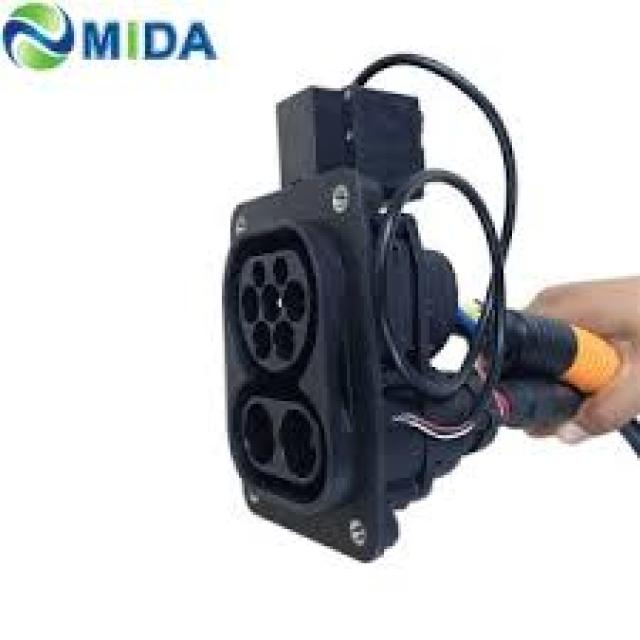inlet: (239, 250, 308, 372)
inlet-above-left: (253, 261, 266, 288)
inlet-above-right: (272, 258, 287, 285)
inlet-below-left: (253, 321, 270, 358)
inlet-below-right: (274, 322, 294, 359)
inlet-circle: (262, 283, 280, 321)
inlet-circle-left: (241, 286, 259, 324)
inlet-circle-right: (287, 281, 305, 319)
inlet-minus: (280, 409, 317, 477)
inlet-plus: (246, 403, 273, 463)
